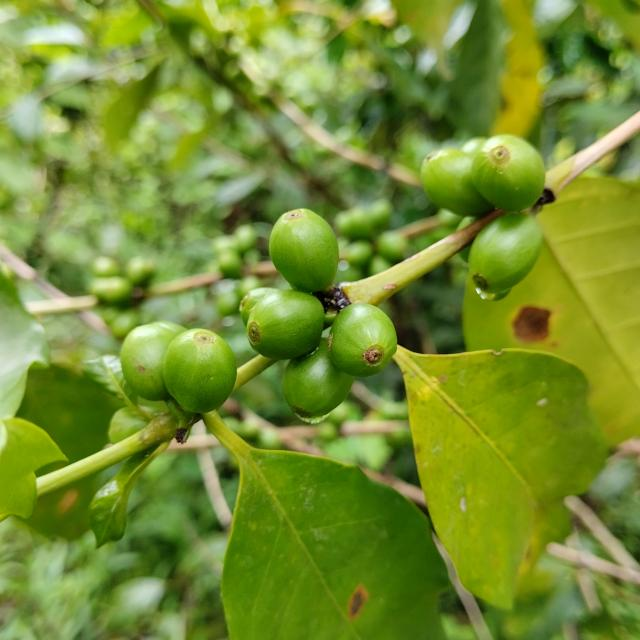green: (163, 329, 236, 414), (282, 339, 354, 424), (470, 212, 543, 293), (269, 208, 339, 292), (472, 134, 546, 211), (246, 289, 325, 360), (328, 303, 397, 377), (421, 148, 494, 216), (120, 324, 176, 401), (239, 287, 277, 326), (460, 136, 488, 157), (150, 321, 187, 336)
